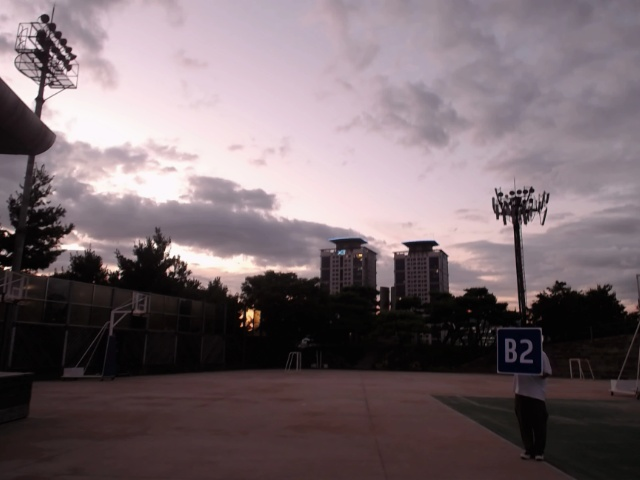delivery_b2: (497, 327, 543, 375)
